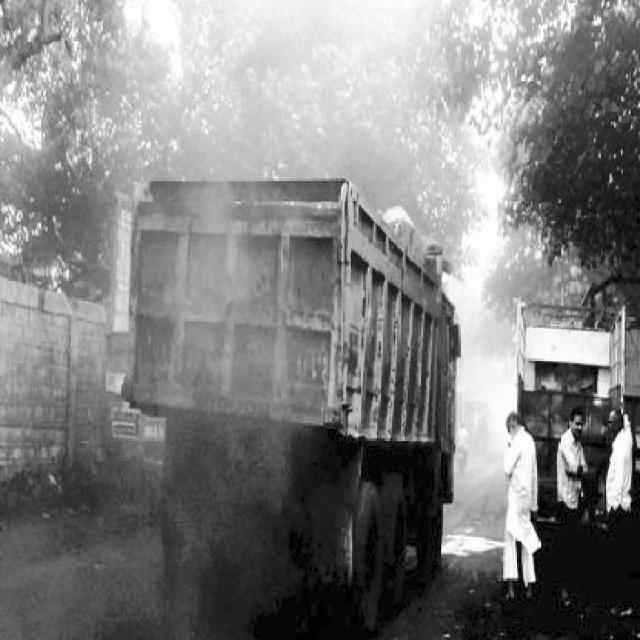HCV: (135, 178, 462, 596)
